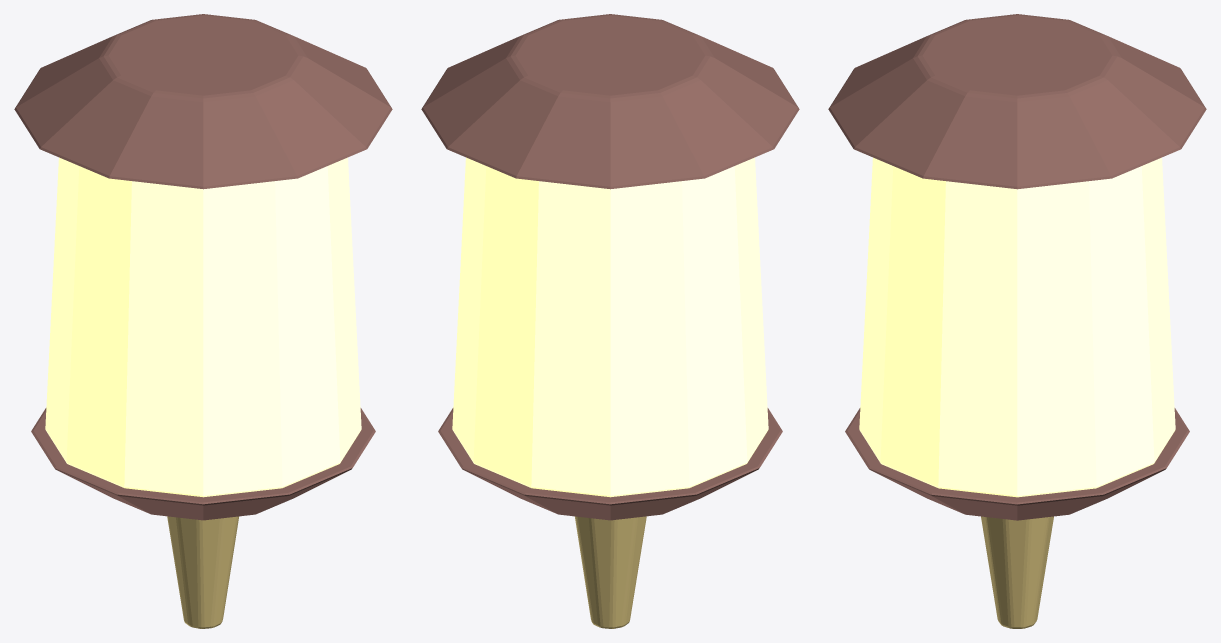
File: paper_lantern.glb
3 renders of one model, left to right at view 1: azimuth 30°, elevation 25°; view 2: azimuth 150°, elevation 25°; view 3: azimuth 270°, elevation 25°, orthographic.
Parts seen in each view (by area): view 1: Body, CapBot, Tassel; view 2: Body, CapBot, Tassel; view 3: Body, CapBot, Tassel.
Boxes of the visible parts, bbox=[...] form: Body: bbox=[45, 157, 361, 497]; CapBot: bbox=[14, 14, 392, 520]; Tassel: bbox=[167, 516, 239, 628]; Body: bbox=[452, 157, 768, 497]; CapBot: bbox=[421, 14, 799, 520]; Tassel: bbox=[574, 516, 646, 628]; Body: bbox=[859, 157, 1175, 497]; CapBot: bbox=[828, 14, 1206, 520]; Tassel: bbox=[981, 516, 1053, 628].
Size of the model in its own units: 2.27 by 3.75 by 2.27.
